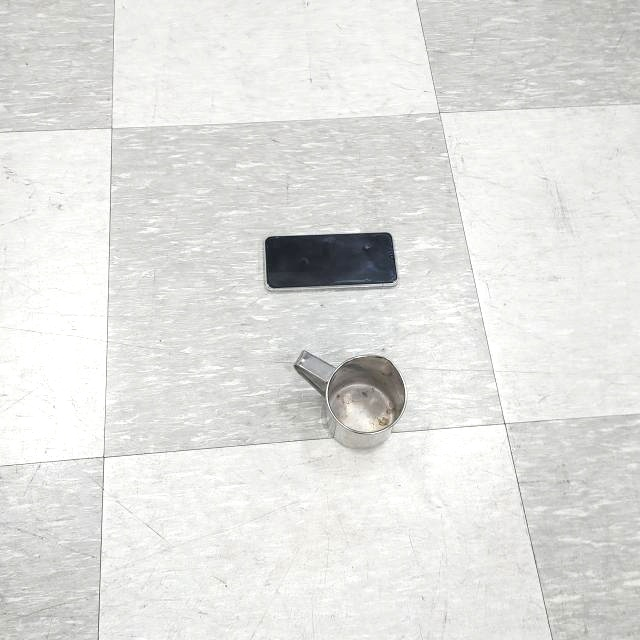cup: (290, 347, 407, 452)
phone: (263, 231, 398, 295)
